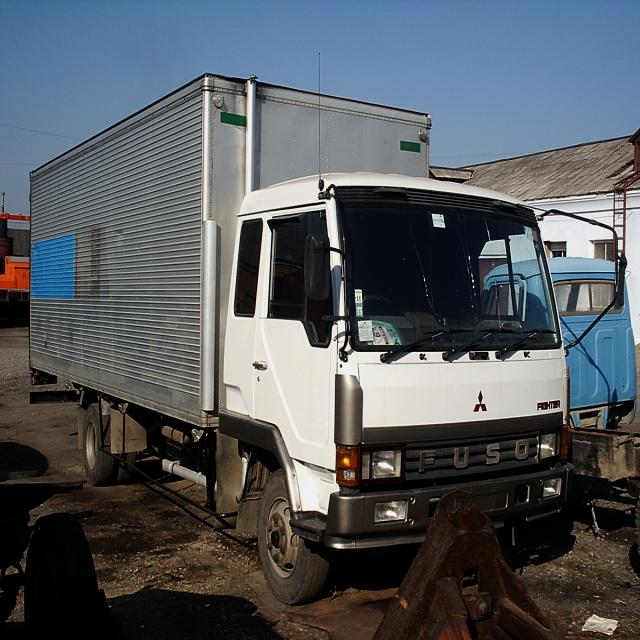truck: (31, 75, 625, 611)
